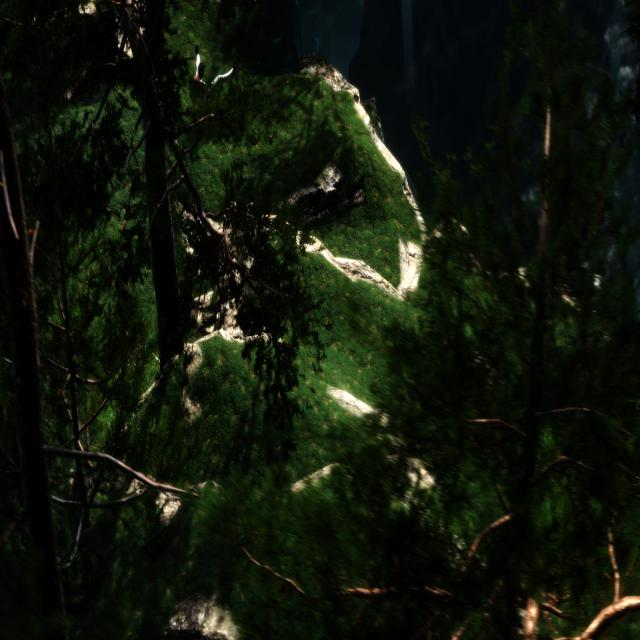Human: (190, 42, 244, 108)
